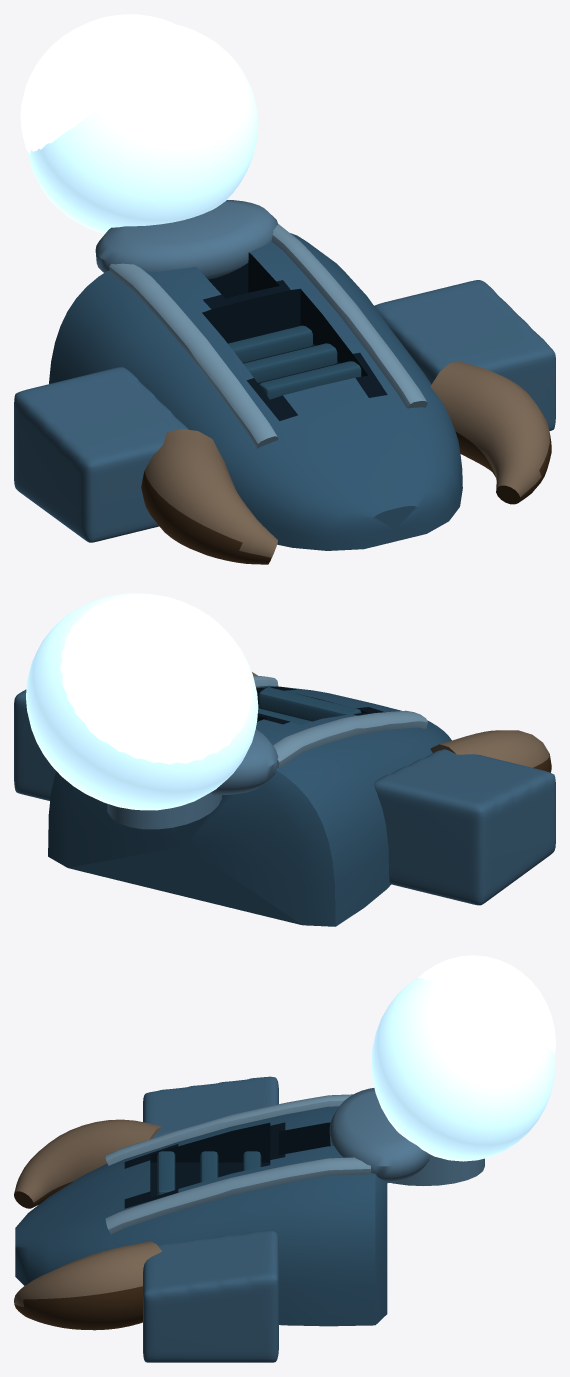
The model's file is orb_tower.glb.
3 views of the same model, one above another, from view 1: azimuth 30°, elevation 25°; view 2: azimuth 150°, elevation 25°; view 3: azimuth 270°, elevation 25° (orthographic). The views are drawn at different scales.
Parts seen in each view (by area): view 1: body, orb, shoulder-1, shoulder1, orb_core, claw-1, claw1, collar, rib-1, rib1, slat1, slat0 (+1 smaller); view 2: body, orb_core, shoulder-1, orb, rib-1, claw-1, shoulder1, neck, collar, slat2; view 3: body, orb, shoulder1, claw1, claw-1, orb_core, collar, shoulder-1, rib1, rib-1, neck, slat2 (+1 smaller).
Boxes of the visible parts, x1,y1,x2,y2 form: body: (49, 233, 462, 550); orb: (27, 24, 258, 234); shoulder-1: (14, 367, 188, 542); shoulder1: (374, 280, 555, 430); orb_core: (20, 14, 178, 154); claw-1: (141, 429, 277, 564); claw1: (430, 361, 551, 504); collar: (95, 200, 278, 279); rib-1: (109, 263, 278, 448); rib1: (271, 224, 427, 408); slat1: (243, 343, 337, 382); slat0: (228, 325, 312, 362); body: (48, 685, 451, 926); orb_core: (60, 594, 251, 764); shoulder-1: (374, 749, 555, 905); orb: (26, 593, 258, 810); rib-1: (273, 710, 427, 768); claw-1: (430, 730, 551, 772); shoulder1: (14, 689, 56, 800); neck: (107, 792, 221, 829); collar: (211, 729, 278, 795); slat2: (258, 687, 361, 720); body: (15, 1106, 387, 1326); orb: (371, 977, 555, 1161); shoulder1: (143, 1231, 278, 1362); claw1: (14, 1241, 161, 1330); claw-1: (14, 1119, 161, 1208); orb_core: (418, 955, 555, 1054); collar: (329, 1088, 429, 1183); shoulder-1: (143, 1076, 278, 1138); rib1: (105, 1157, 371, 1234); rib-1: (105, 1094, 352, 1165); neck: (392, 1154, 484, 1185); slat2: (157, 1151, 175, 1195).
Size of the model in its own units: 22.5 by 15.11 by 25.28.
